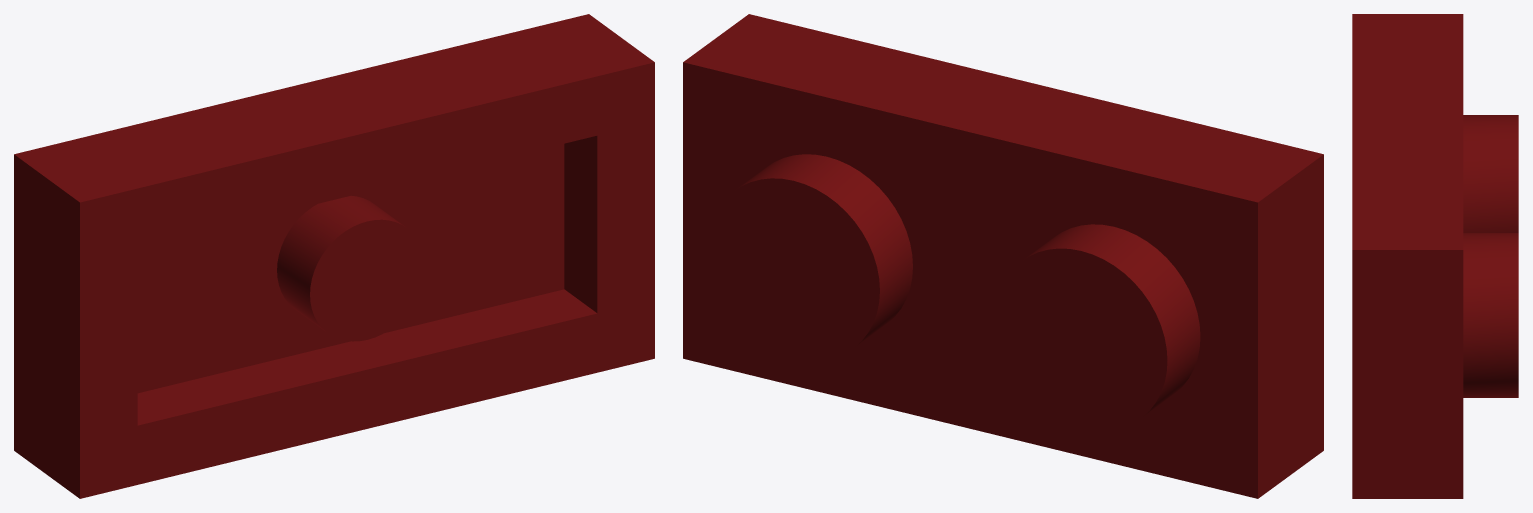
The model's file is sueloRojo.dae.
3 views of the same model, side by side, from view 1: azimuth 30°, elevation 25°; view 2: azimuth 150°, elevation 25°; view 3: azimuth 270°, elevation 25° (orthographic). The views are drawn at different scales.
Visible parts, largest first — view 1: Inner-Node-palmera___28_1_29__dot_io-0; view 2: Inner-Node-palmera___28_1_29__dot_io-0; view 3: Inner-Node-palmera___28_1_29__dot_io-0.
Boxes of the visible parts, x1,y1,x2,y2 form: Inner-Node-palmera___28_1_29__dot_io-0: (14,14,654,498); Inner-Node-palmera___28_1_29__dot_io-0: (683,14,1323,498); Inner-Node-palmera___28_1_29__dot_io-0: (1352,14,1518,498).
Bounding box in the file's own units: 39.75 × 19.58 × 11.85.
